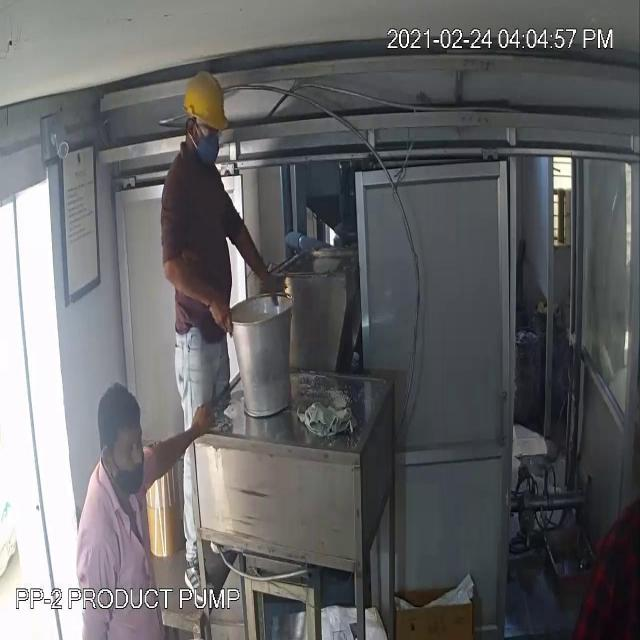hat: (180, 62, 232, 142)
